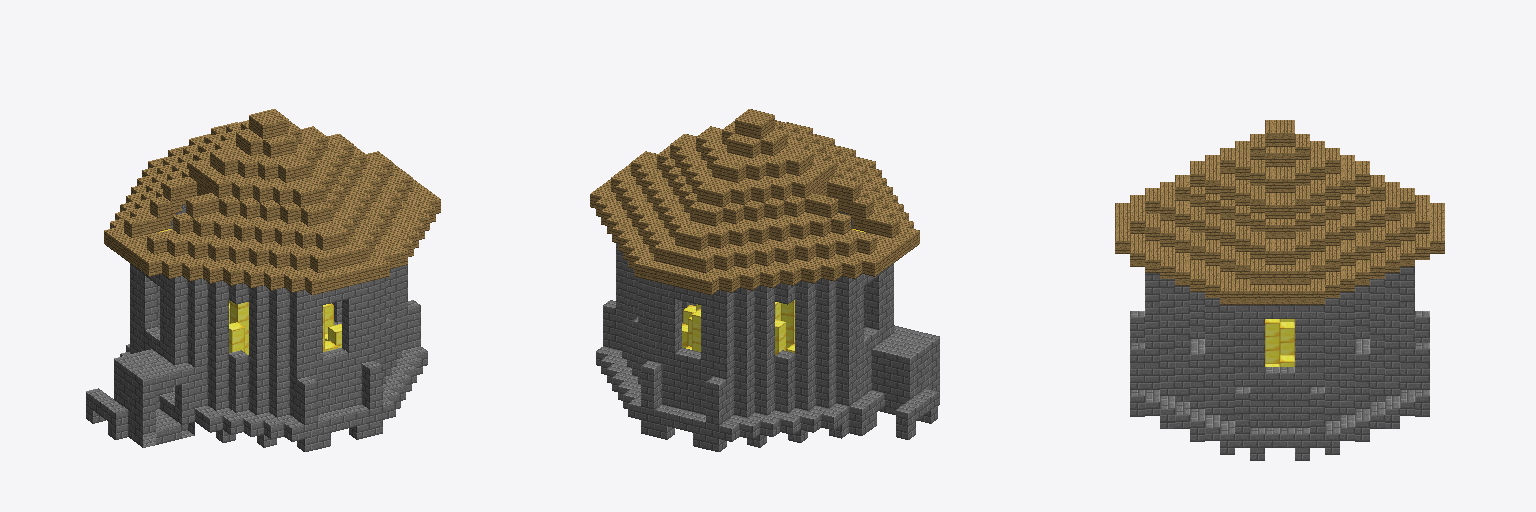
The picture shows the model from 3 angles: view 1: azimuth 30°, elevation 25°; view 2: azimuth 150°, elevation 25°; view 3: azimuth 270°, elevation 25°; orthographic projection.
Bounding box in the file's own units: 4.8 × 4 × 4.4.
4 materials, 1 textured.